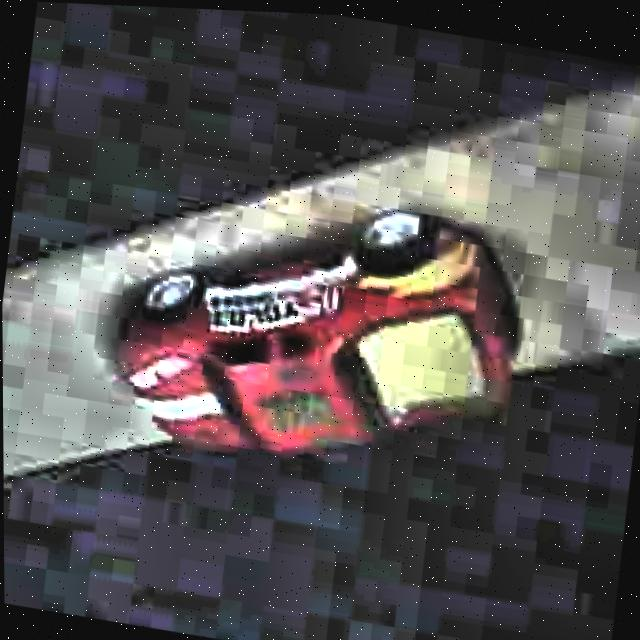car: (101, 157, 536, 505)
